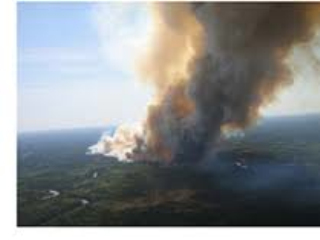smoke: (108, 3, 301, 176)
